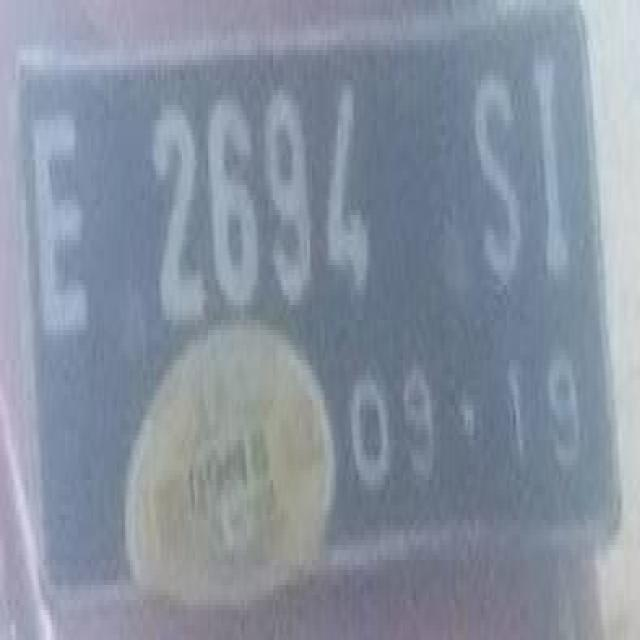2: (142, 80, 206, 335)
4: (324, 50, 378, 325)
6: (207, 72, 261, 352)
9: (260, 55, 314, 345)
E: (28, 105, 92, 345)
I: (531, 42, 572, 308)
S: (465, 55, 532, 325)
